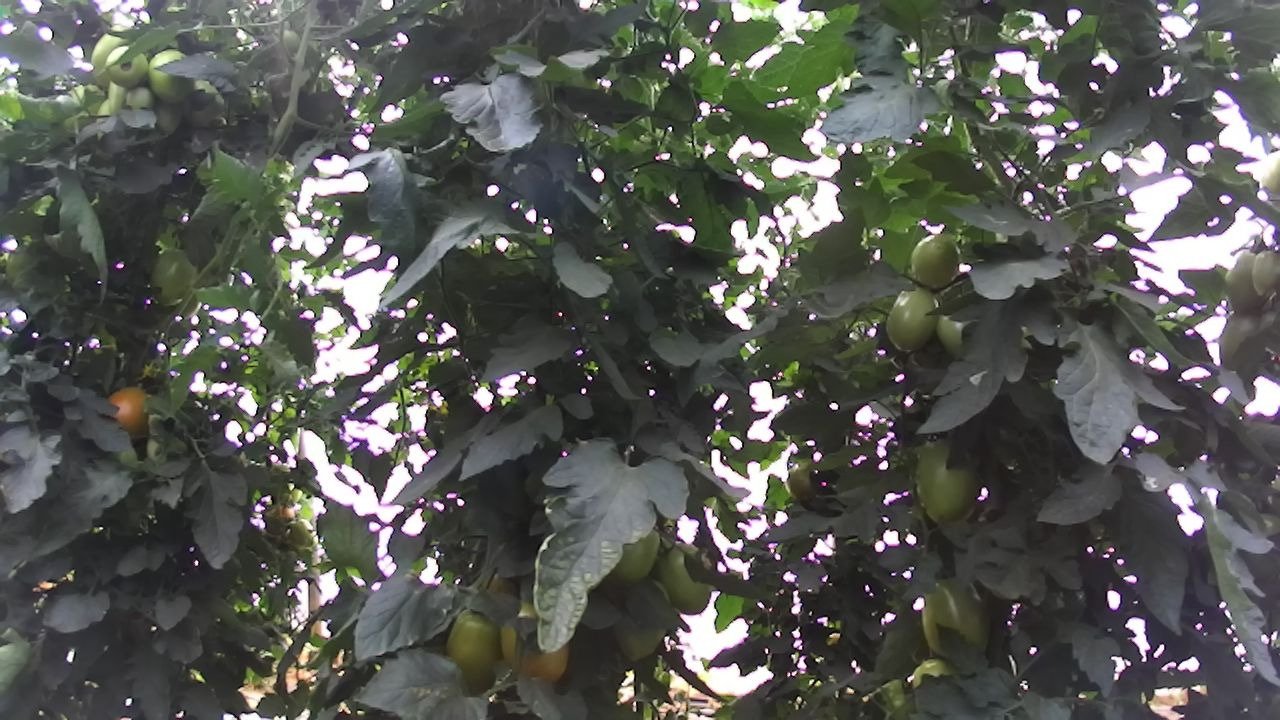tomato: (910, 572, 998, 666), (908, 433, 983, 532), (440, 602, 502, 706), (655, 537, 714, 618), (879, 280, 942, 355), (905, 232, 965, 290), (1217, 246, 1266, 316), (1250, 247, 1280, 294)
